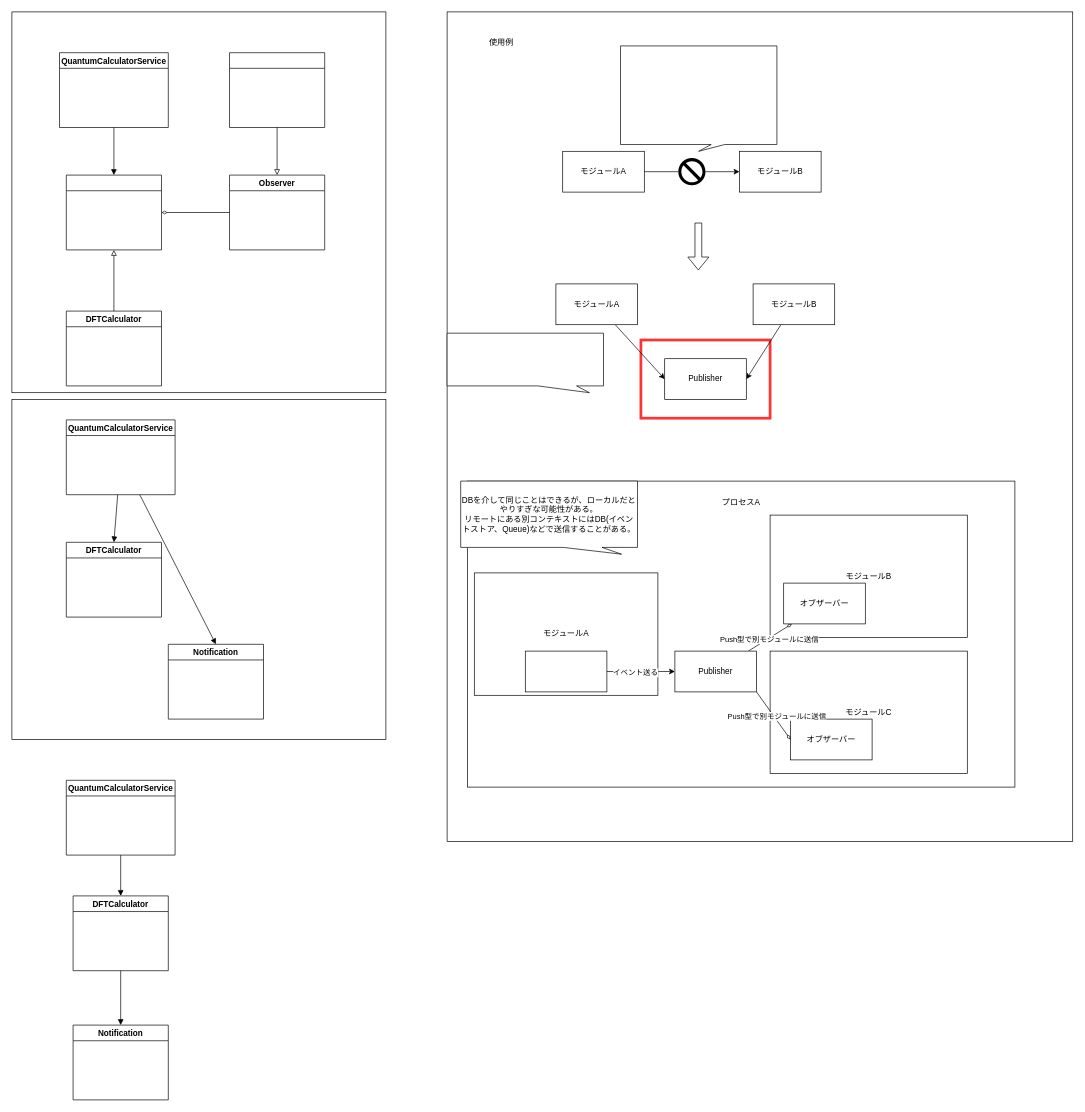
The diagram is 1085 pixels wide and 1112 high, and some of its shapes have lost their labels. The shapes that lost their labels are listed below. From the top down, each one's centre as x and y in pixels, then its label:
At pixel 277 90: "DFTObserver".
At pixel 698 98: "モジュラーモノリスを使っていると、モジュール間でドメインなど触りたいとき、 基本的にはモジュール間で依存関係が発生するので触りたくない".
At pixel 114 212: "QuantumCalculator".
At pixel 525 363: "モジュール間にPublisherを挟んで送ることで、モジュール間を疎結合にする。".
At pixel 566 671: "ドメインA".
